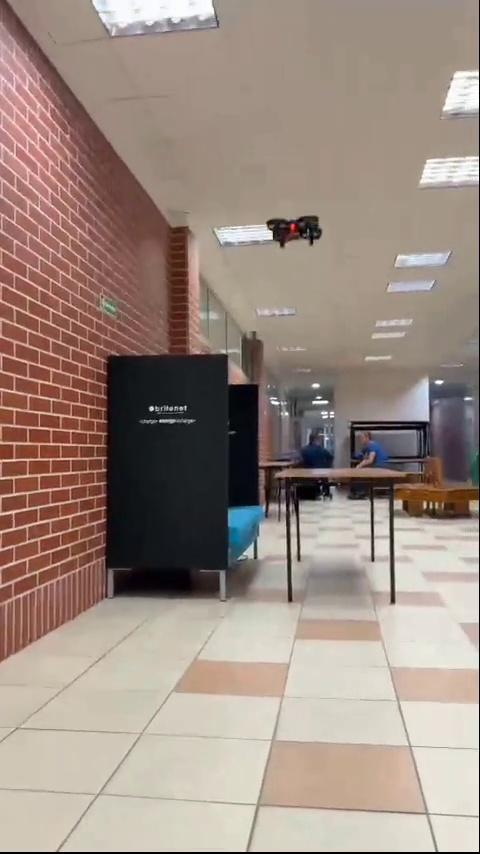drone: (267, 213, 323, 251)
no vest: (298, 429, 336, 474), (355, 420, 389, 467)
